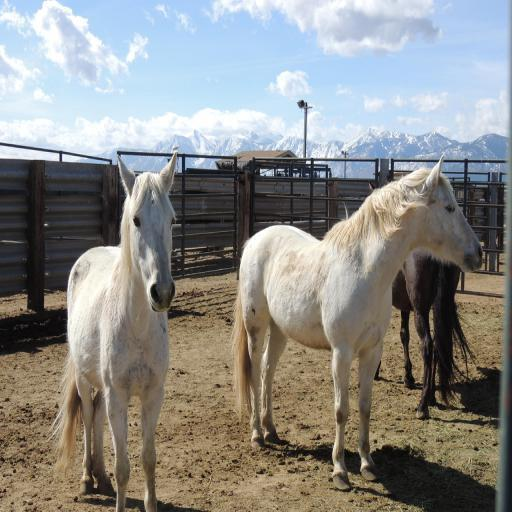horse: (226, 152, 484, 492), (44, 153, 178, 512), (368, 184, 480, 422)
